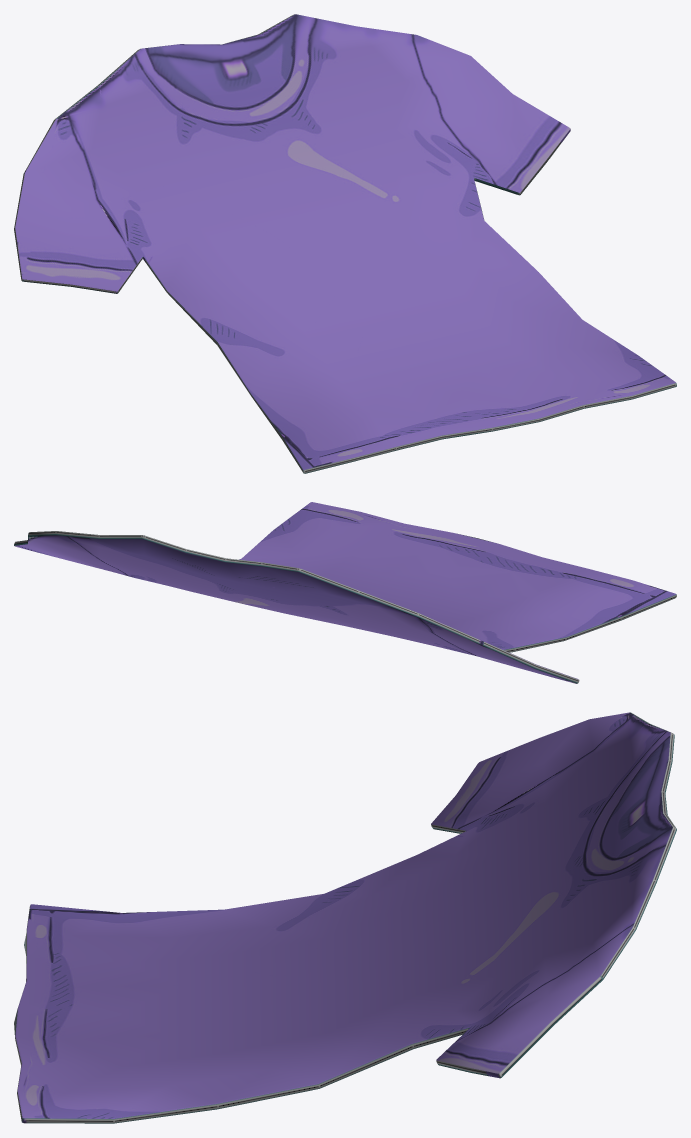
Rendered from T_Shirt_Bend.fbx.
3 views of the same model, one above another, from view 1: azimuth 30°, elevation 25°; view 2: azimuth 150°, elevation 25°; view 3: azimuth 270°, elevation 25° (orthographic). The views are drawn at different scales.
Parts seen in each view (by area): view 1: T-Shirt_1; view 2: T-Shirt_1; view 3: T-Shirt_1.
Part boxes in pixels (<box>): T-Shirt_1: <box>14,14,676,473</box>; T-Shirt_1: <box>14,502,676,683</box>; T-Shirt_1: <box>14,712,676,1123</box>.
Size of the model in its own units: 70.14 by 24.48 by 61.01.
Materials: 1 (1 with a texture image).
